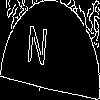N: (25, 24, 49, 75)
